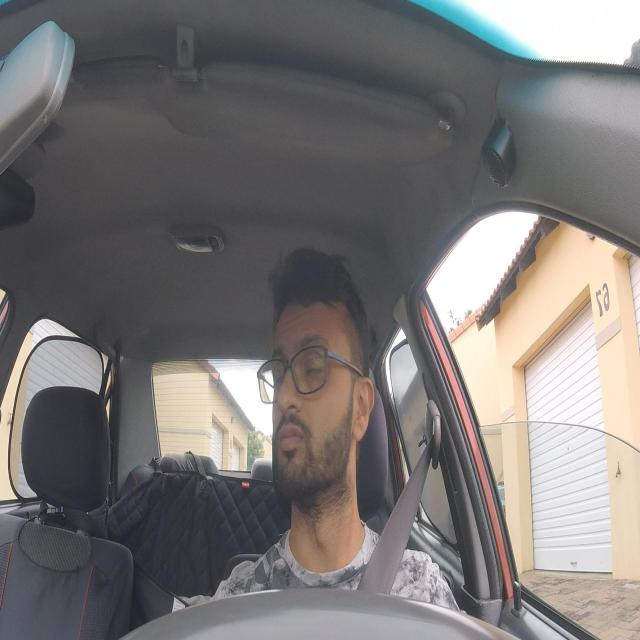close: (299, 335, 330, 382), (270, 346, 290, 392)
